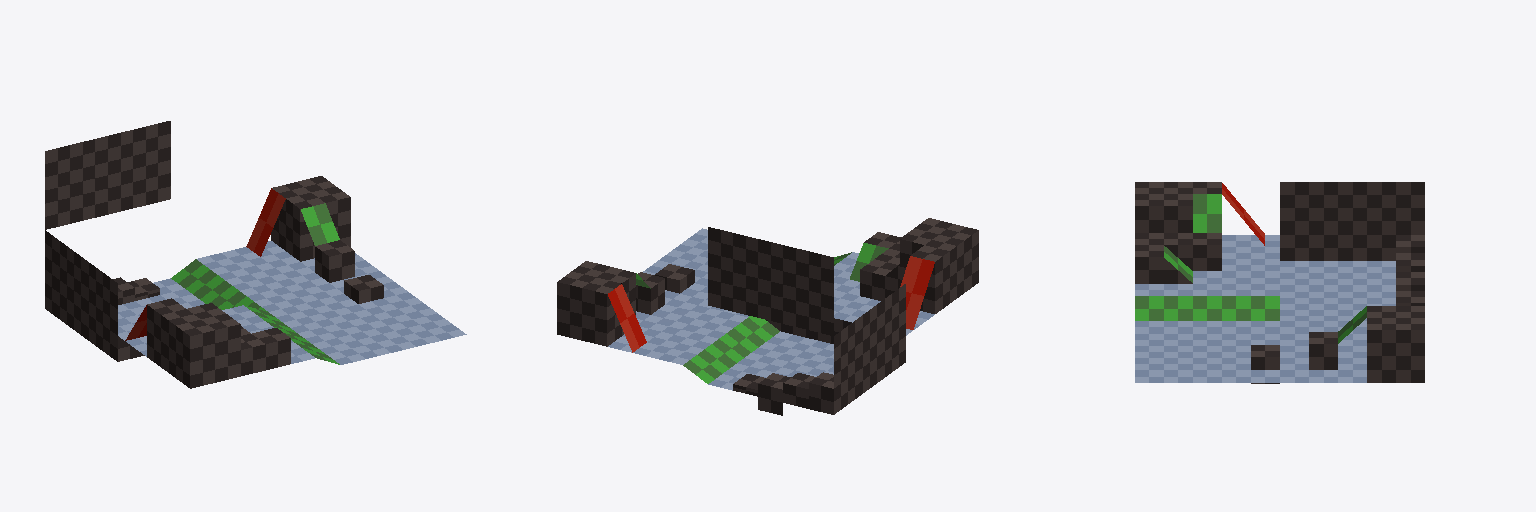
3 views of the same model, side by side, from view 1: azimuth 30°, elevation 25°; view 2: azimuth 150°, elevation 25°; view 3: azimuth 270°, elevation 25° (orthographic).
Parts seen in each view (by area): view 1: Default; view 2: Default; view 3: Default.
Part boxes in pixels (bbox=[...]): Default: bbox=[45, 121, 466, 388]; Default: bbox=[557, 218, 978, 415]; Default: bbox=[1135, 182, 1424, 383].
Size of the model in its own units: 11 by 6.5 by 10.
Materials: 1 (1 with a texture image).